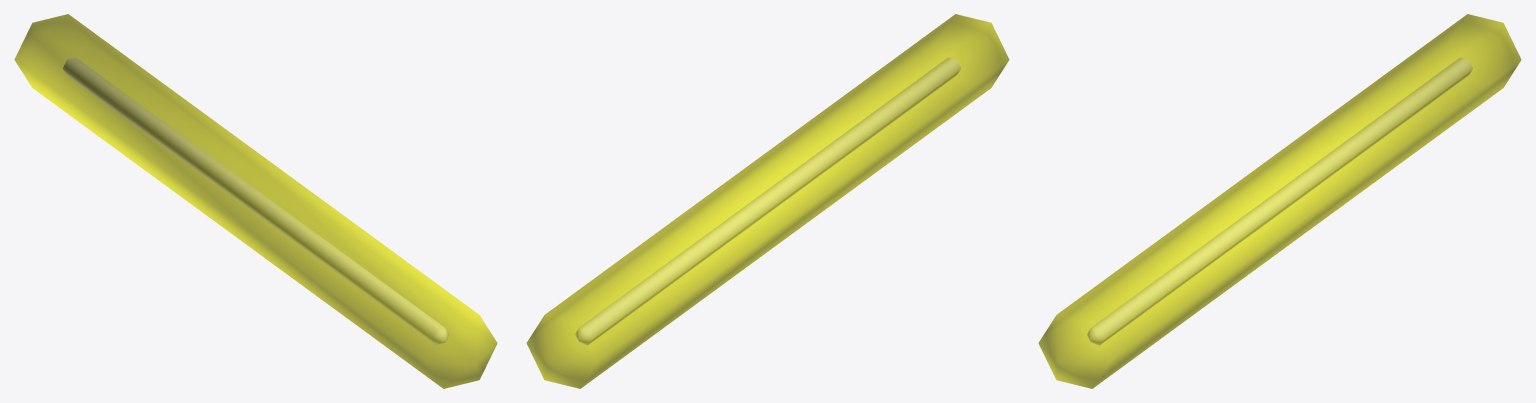
File: yellow_turret_laser_model.fbx
3 views of the same model, side by side, from view 1: azimuth 30°, elevation 25°; view 2: azimuth 150°, elevation 25°; view 3: azimuth 330°, elevation 25° (orthographic).
Visible parts, largest first — view 1: glow, bolt; view 2: glow, bolt; view 3: glow, bolt.
Part boxes in pixels (x1=…): glow: x1=14, y1=14, x2=497, y2=388; bolt: x1=63, y1=57, x2=448, y2=345; glow: x1=526, y1=14, x2=1009, y2=388; bolt: x1=575, y1=57, x2=960, y2=345; glow: x1=1038, y1=14, x2=1521, y2=388; bolt: x1=1087, y1=57, x2=1472, y2=345.
Size of the model in its own units: 7.56 by 6.55 by 80.08.
